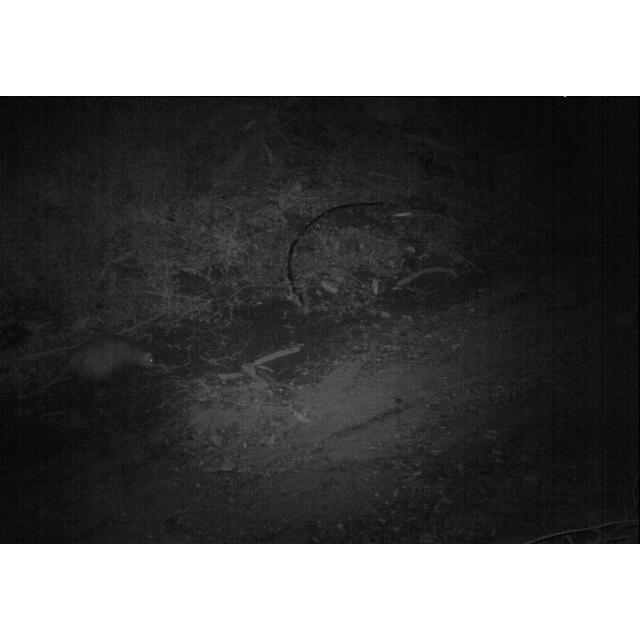animals: (35, 336, 158, 394)
